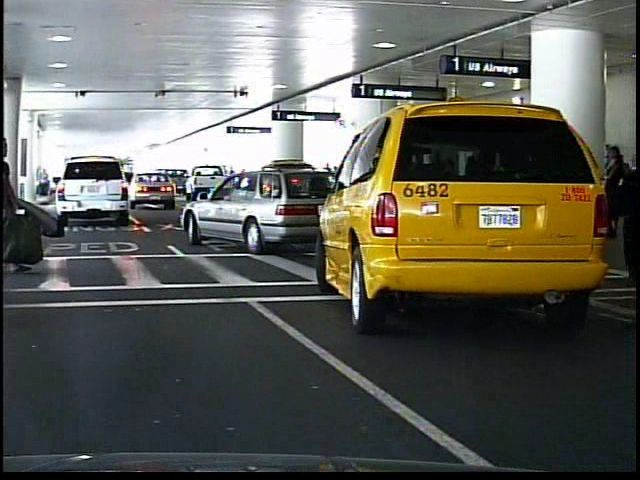person: (595, 144, 628, 265)
